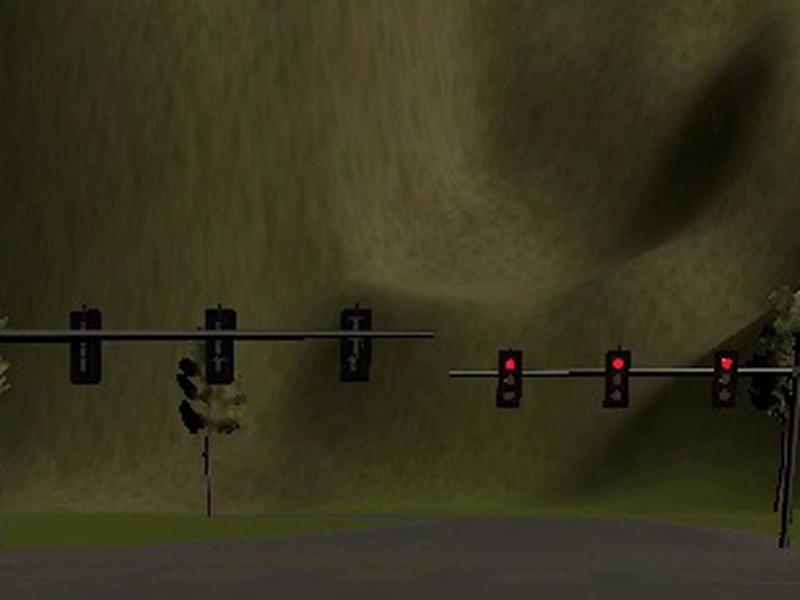Red: (711, 347, 742, 410), (495, 348, 526, 408), (603, 349, 633, 408)
